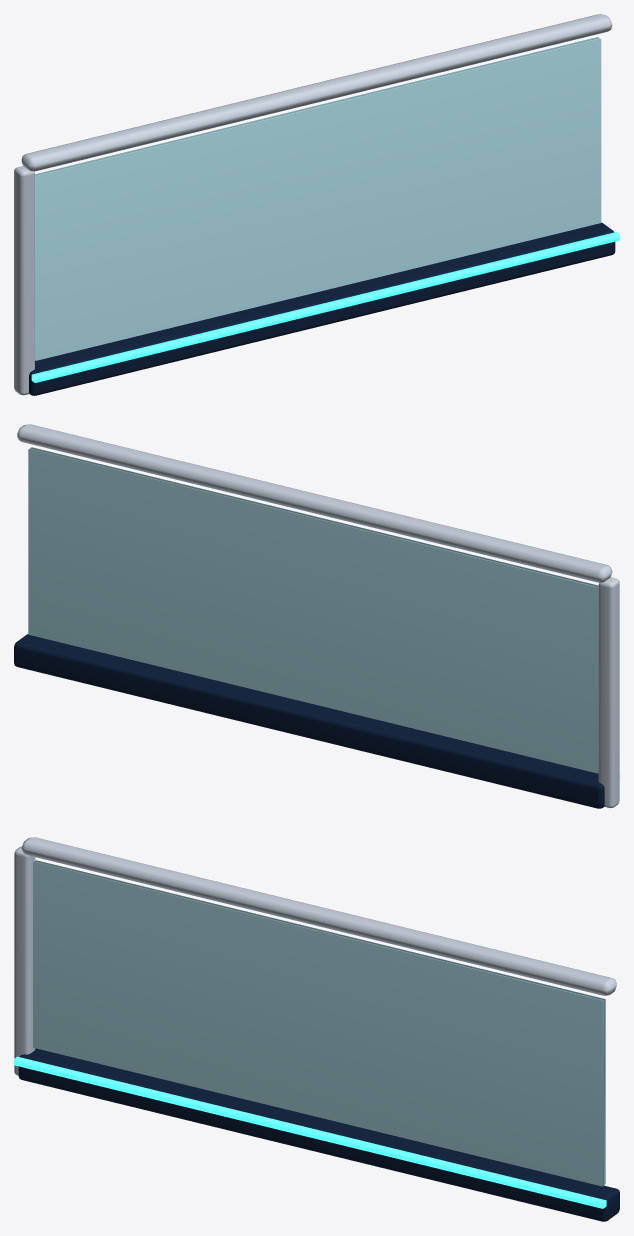
Rendered from aqua_glass_rail.glb.
The picture shows the model from 3 angles, top to bottom: view 1: azimuth 30°, elevation 25°; view 2: azimuth 150°, elevation 25°; view 3: azimuth 330°, elevation 25°; orthographic projection.
Parts seen in each view (by area): view 1: GlassRail; view 2: GlassRail; view 3: GlassRail.
Boxes of the visible parts, x1,y1,x2,y2 form: GlassRail: (14, 14, 619, 395); GlassRail: (14, 424, 619, 808); GlassRail: (14, 837, 619, 1221).
Bounding box in the file's own units: 3.04 × 1.15 × 0.165.
